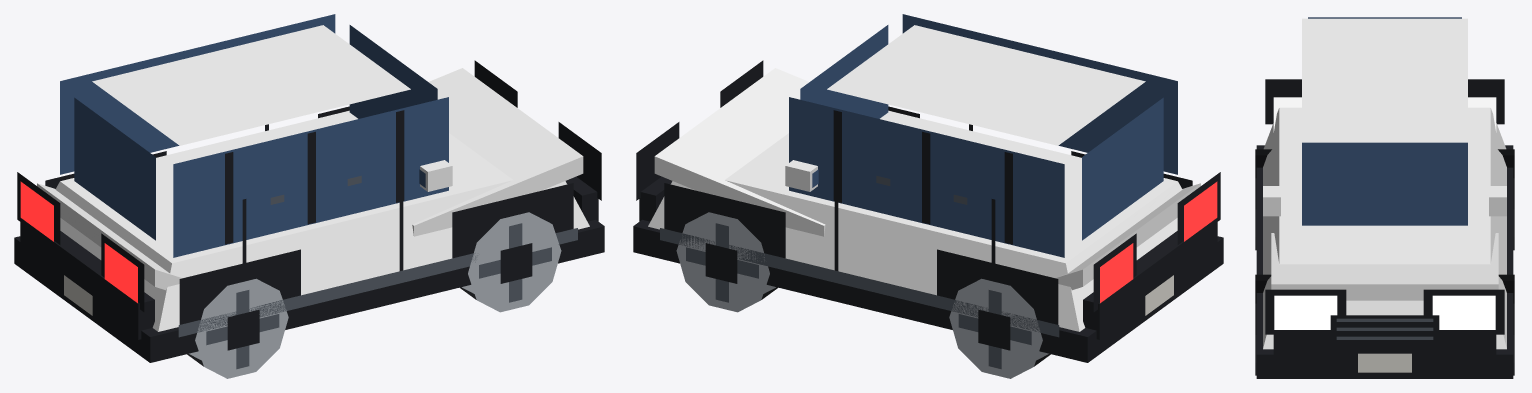
The model's file is car_hatch.glb.
3 renders of one model, left to right at view 1: azimuth 30°, elevation 25°; view 2: azimuth 150°, elevation 25°; view 3: azimuth 270°, elevation 25°, orthographic. The views are drawn at different scales.
Visible parts, largest first — view 1: car_hatch; view 2: car_hatch; view 3: car_hatch.
Boxes of the visible parts, bbox=[...] form: car_hatch: bbox=[14, 14, 604, 378]; car_hatch: bbox=[633, 14, 1223, 378]; car_hatch: bbox=[1255, 17, 1514, 378].
Size of the model in its own units: 0.3361 by 0.1529 by 0.1774.
